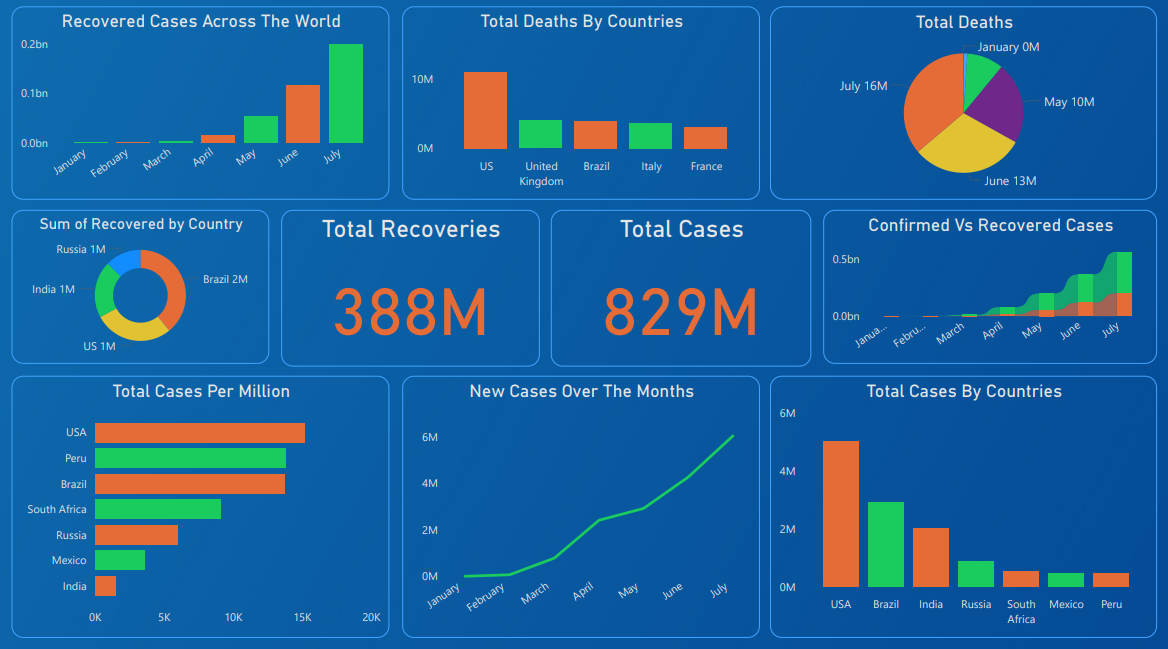

What the dashboard file says about the page in this screenshot:
{"tool":"powerbi","page":{"name":"Page 1","canvas":[1280,720],"ordinal":0},"visuals":[{"type":"columnChart","title":"Total Cases By Countries","fields":{"Category":["Processed_World_Data_2.Country"],"Y":["Sum(Processed_World_Data_2.Total_Cases)"]},"box":[845.2,410.6,421.8,286],"z":0},{"type":"donutChart","fields":{"Category":["Country_Data.Country"],"Y":["Sum(Country_Data.Recovered)"]},"box":[17.6,230.1,281.2,167.8],"z":1000},{"type":"columnChart","title":"Recovered Cases Across The World","fields":{"Category":["Per_Day_Data_2.Date.Variation.Date Hierarchy.Month"],"Y":["Sum(Per_Day_Data_2.Recovered)"]},"box":[17.6,8,412.2,210.9],"z":2000},{"type":"pieChart","title":"Total Deaths","fields":{"Category":["Per_Day_Data_2.Date.Variation.Date Hierarchy.Month"],"Y":["Sum(Per_Day_Data_2.Deaths)"]},"box":[845.2,8,421.8,210.9],"z":3000},{"type":"clusteredBarChart","title":"Total Cases Per Million","fields":{"Category":["Processed_World_Data_2.Country"],"Y":["Sum(Processed_World_Data_2.Tot Cases/1M pop)"]},"box":[17.6,410.6,412.2,286],"z":4000},{"type":"lineChart","title":"New Cases Over The Months","fields":{"Category":["Per_Day_Data_2.Date.Variation.Date Hierarchy.Month"],"Y":["Sum(Per_Day_Data_2.New cases)"]},"box":[444.2,410.6,389.8,286],"z":5000},{"type":"card","title":"Total Cases ","fields":{"Values":["Sum(Per_Day_Data_2.Confirmed)"]},"box":[605.5,230.1,284.4,171],"z":6000},{"type":"card","title":"Total Recoveries","fields":{"Values":["Sum(Per_Day_Data_2.Recovered)"]},"box":[311.5,230.1,282.8,171],"z":7000},{"type":"columnChart","title":"Total Deaths By Countries","fields":{"Y":["Sum(Per_Day_Data_2.Deaths)"],"Category":["Per_Day_Data_2.Country/Region"]},"box":[444.2,8,389.8,210.9],"z":8000},{"type":"ribbonChart","title":"Confirmed Vs Recovered Cases","fields":{"Category":["Per_Day_Data_2.Date.Variation.Date Hierarchy.Month"],"Y":["Sum(Per_Day_Data_2.Confirmed)","Sum(Per_Day_Data_2.Recovered)"]},"box":[902.7,230.1,364.3,167.8],"z":9000}]}

Visuals, with their boxes in screenshot pixels (x1, y1, x2, y2), scaled from the page's 1280x720 canvas onto the 1168x649 screenshot:
"Total Cases By Countries" columnChart: (771,370,1156,628)
donutChart - Country_Data.Country x Sum(Country_Data.Recovered): (16,207,273,359)
"Recovered Cases Across The World" columnChart: (16,7,392,197)
"Total Deaths" pieChart: (771,7,1156,197)
"Total Cases Per Million" clusteredBarChart: (16,370,392,628)
"New Cases Over The Months" lineChart: (405,370,761,628)
"Total Cases " card: (553,207,812,362)
"Total Recoveries" card: (284,207,542,362)
"Total Deaths By Countries" columnChart: (405,7,761,197)
"Confirmed Vs Recovered Cases" ribbonChart: (824,207,1156,359)
